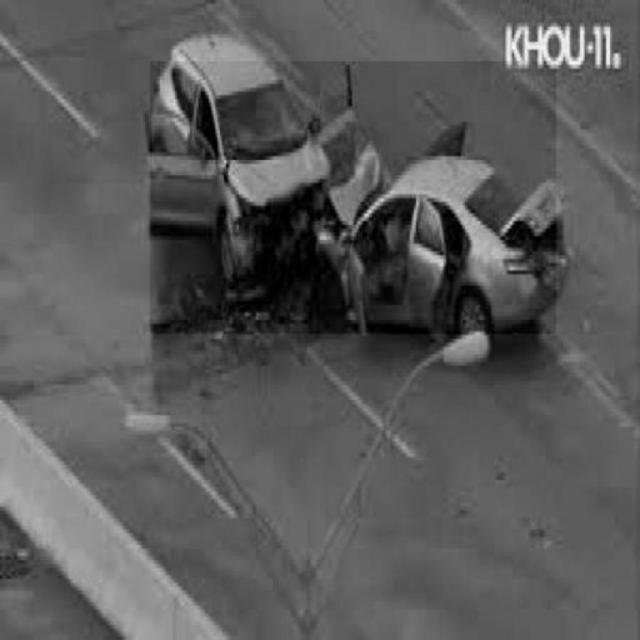accident: (148, 32, 574, 362)
